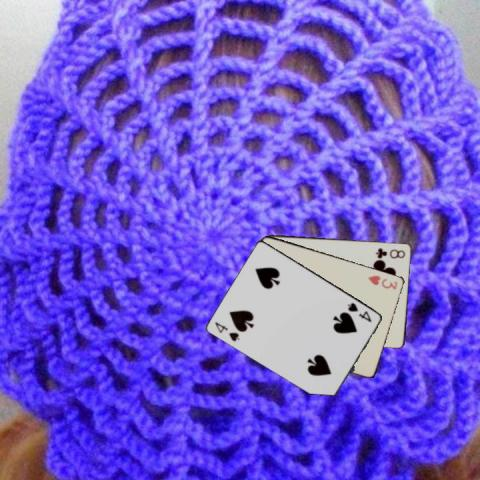3h: (366, 272, 400, 291)
4s: (212, 318, 241, 343), (346, 300, 374, 324)
8c: (372, 246, 406, 259)
